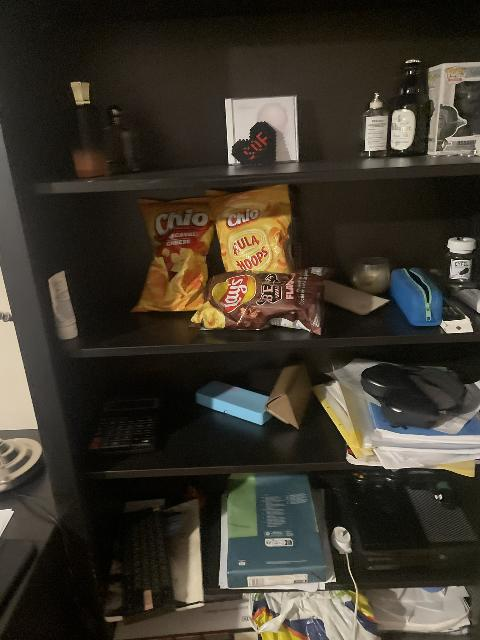Chio Cascaval 125g: (130, 196, 217, 313)
Chio Hula Hoops Cheese 70g: (210, 186, 294, 277)
Lays Beef Grilled Ribs 125g: (194, 267, 327, 331)
